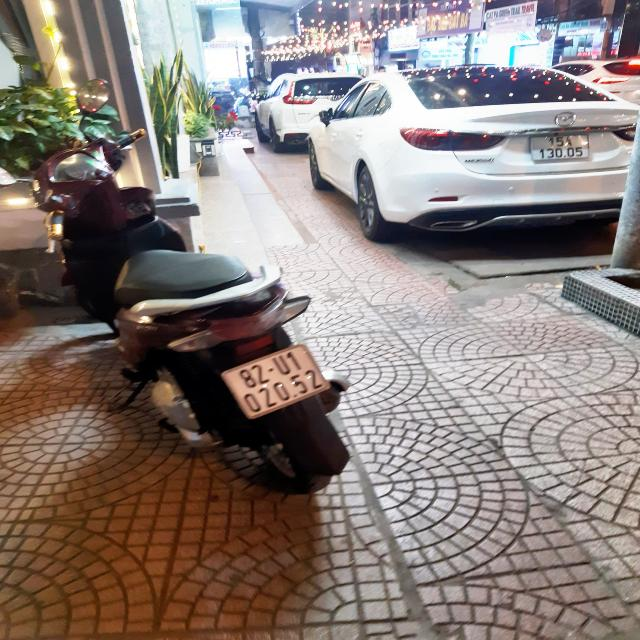license_plate: (210, 338, 340, 428), (527, 133, 595, 164)
